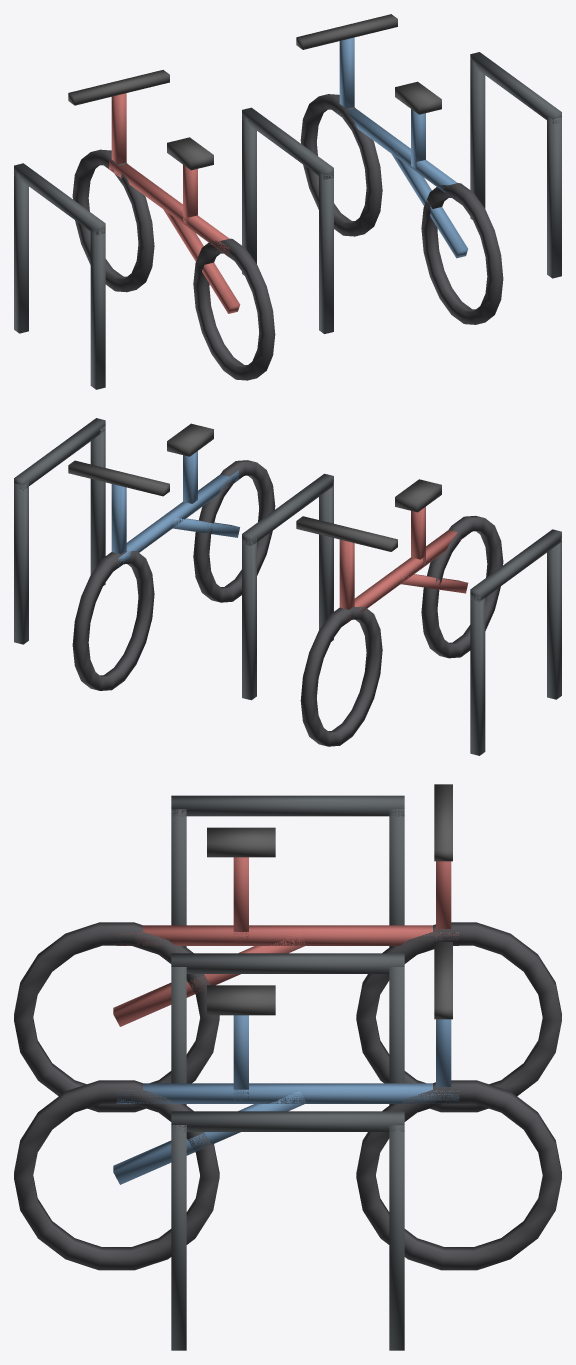
Rendered from bike_rack.glb.
The picture shows the model from 3 angles, top to bottom: view 1: azimuth 30°, elevation 25°; view 2: azimuth 150°, elevation 25°; view 3: azimuth 270°, elevation 25°; orthographic projection. The views are drawn at different scales.
Visible parts, largest first — view 1: bike_rack_9, bike_rack_17, bike_rack_18, bike_rack_10, bike_rack_0, bike_rack_6, bike_rack_3, bike_rack_1, bike_rack_7, bike_rack_11, bike_rack_4, bike_rack_19 (+13 smaller); view 2: bike_rack_10, bike_rack_18, bike_rack_9, bike_rack_17, bike_rack_1, bike_rack_7, bike_rack_4, bike_rack_0, bike_rack_19, bike_rack_6, bike_rack_11, bike_rack_3 (+13 smaller); view 3: bike_rack_17, bike_rack_18, bike_rack_10, bike_rack_9, bike_rack_19, bike_rack_11, bike_rack_2, bike_rack_8, bike_rack_5, bike_rack_6, bike_rack_7, bike_rack_20 (+13 smaller).
Part boxes in pixels (x1,y1,x2,y2): bike_rack_9: (193,238,275,380); bike_rack_17: (421,183,503,324); bike_rack_18: (300,94,382,236); bike_rack_10: (72,149,154,292); bike_rack_0: (90,227,105,389); bike_rack_6: (547,115,561,278); bike_rack_3: (319,171,333,333); bike_rack_1: (14,171,28,333); bike_rack_7: (470,59,485,219); bike_rack_11: (109,160,229,256); bike_rack_4: (242,115,256,275); bike_rack_19: (337,108,457,201); bike_rack_10: (300,606,382,746); bike_rack_18: (72,551,154,690); bike_rack_9: (421,515,503,658); bike_rack_17: (193,460,275,602); bike_rack_1: (470,595,485,755); bike_rack_7: (14,482,28,644); bike_rack_4: (242,537,256,700); bike_rack_0: (547,537,561,699); bike_rack_19: (118,470,238,567); bike_rack_6: (90,426,105,585); bike_rack_11: (346,530,462,623); bike_rack_3: (319,481,333,641); bike_rack_17: (14,1080,219,1270); bike_rack_18: (356,1080,561,1270); bike_rack_10: (356,922,561,1112); bike_rack_9: (14,922,219,1112); bike_rack_19: (116,1083,459,1103); bike_rack_11: (117,925,458,945); bike_rack_2: (171,795,404,816); bike_rack_8: (171,1111,404,1131); bike_rack_5: (171,953,404,973); bike_rack_6: (171,1125,186,1350); bike_rack_7: (389,1125,404,1350); bike_rack_20: (113,1091,305,1184).
Bounding box in the file's own units: 2.45 × 1.04 × 1.76.
